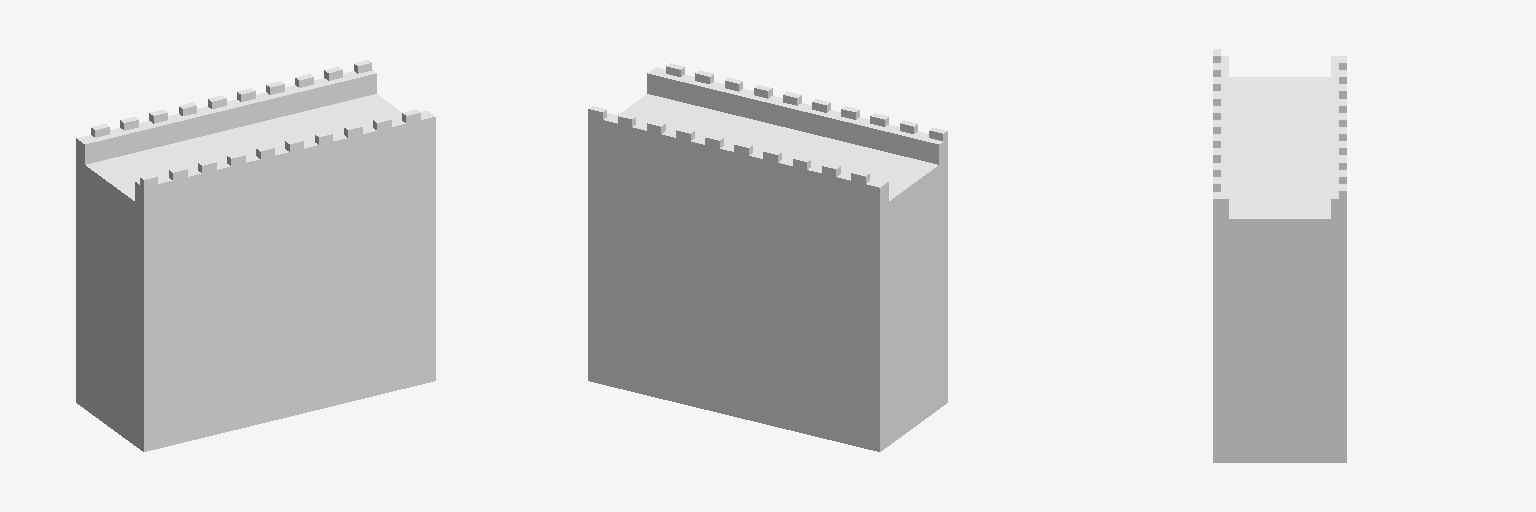
Rendered from TVS_VoxelKnights_Wall.obj.
3 renders of one model, left to right at view 1: azimuth 30°, elevation 25°; view 2: azimuth 150°, elevation 25°; view 3: azimuth 270°, elevation 25°, orthographic.
Parts seen in each view (by area): view 1: ObjObject.003; view 2: ObjObject.003; view 3: ObjObject.003.
Boxes of the visible parts, box(x1,y1,x2,y2) form: ObjObject.003: box(76, 60, 435, 451); ObjObject.003: box(588, 63, 947, 451); ObjObject.003: box(1213, 49, 1346, 462).
Size of the model in its own units: 12 by 10.7 by 4.8.